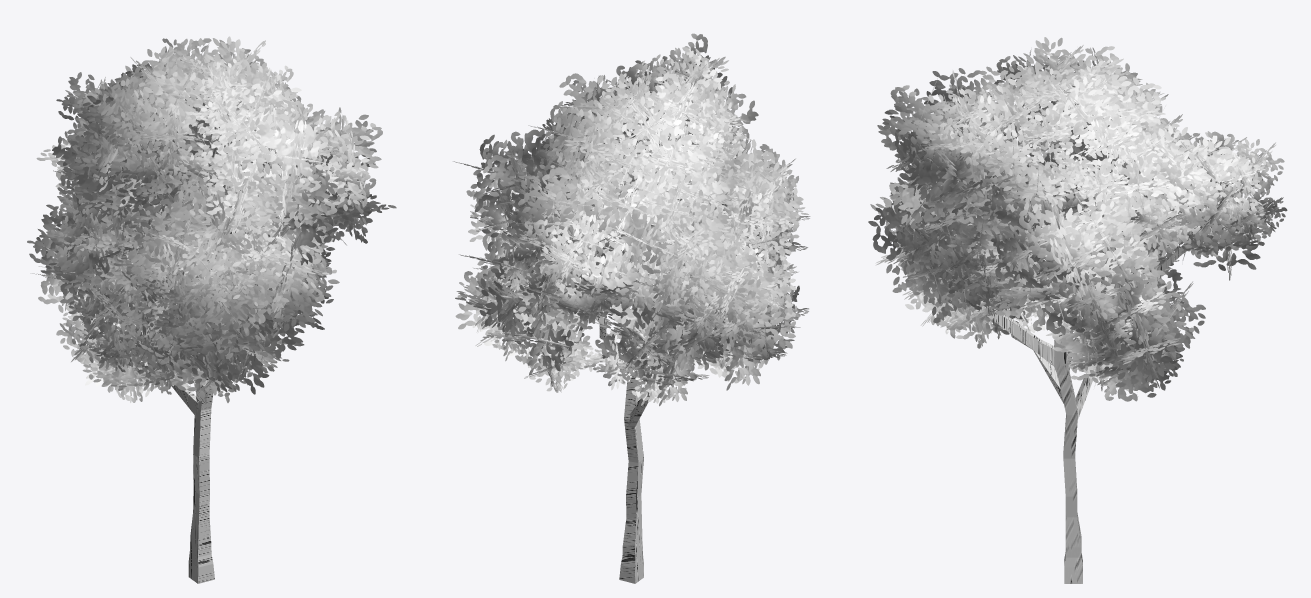
File: BirchTree01.fbx
3 renders of one model, left to right at view 1: azimuth 30°, elevation 25°; view 2: azimuth 150°, elevation 25°; view 3: azimuth 270°, elevation 25°, orthographic. The views are drawn at different scales.
Visible parts, largest first — view 1: BirchTree01_LOD0; view 2: BirchTree01_LOD0; view 3: BirchTree01_LOD0.
Part boxes in pixels (x1=…): BirchTree01_LOD0: x1=27, y1=36, x2=396, y2=583; BirchTree01_LOD0: x1=453, y1=33, x2=810, y2=583; BirchTree01_LOD0: x1=868, y1=37, x2=1287, y2=583.
Size of what is drawn, in the model's own units: 475 by 692 by 514.
Materials: 2 (2 with a texture image).
